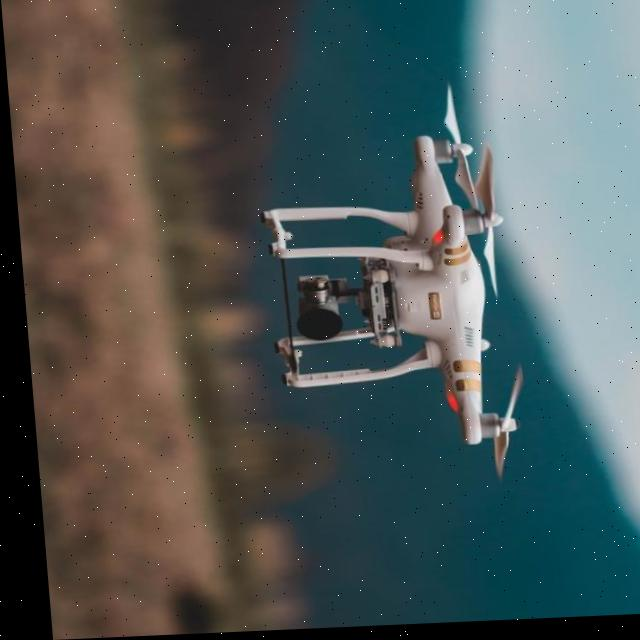drones: (227, 81, 556, 514)
